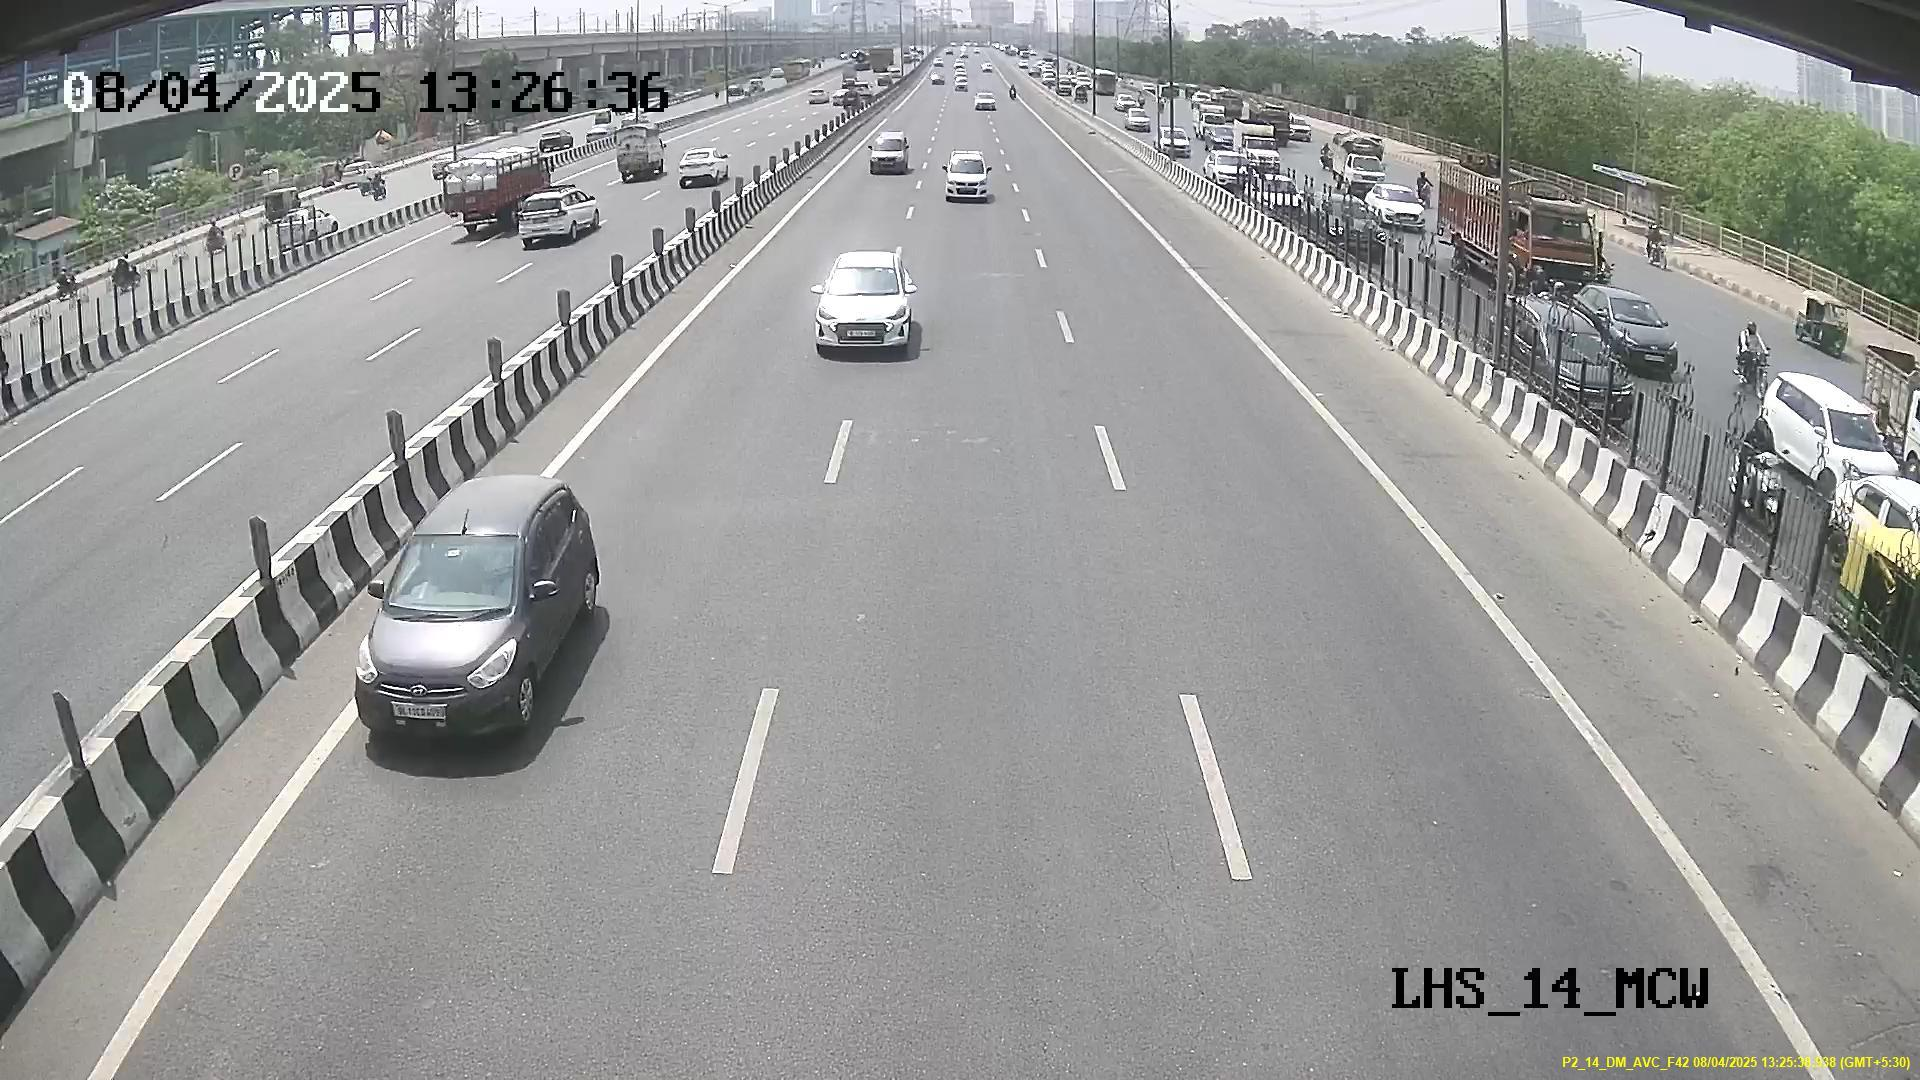car: (355, 497, 555, 752), (806, 257, 919, 359)
